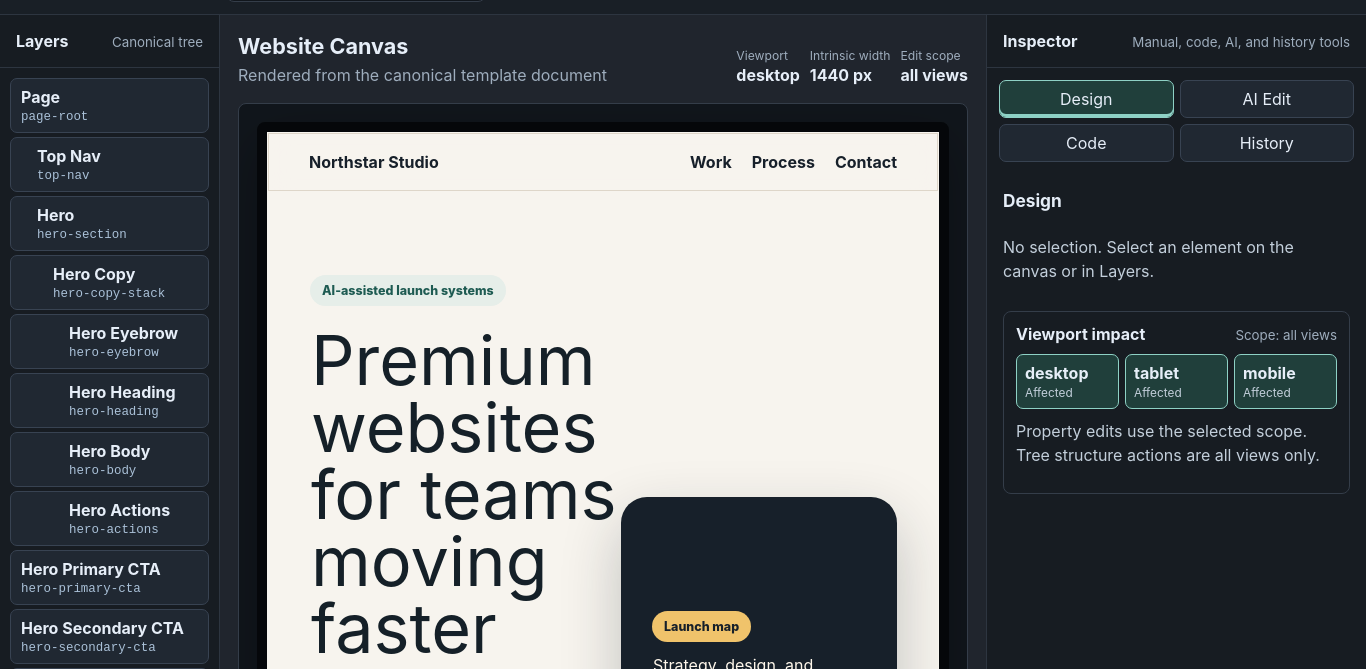
EditorShell › selects a canonical stable ID when a layer is clicked
What coordinates should you click on to do the following:
click the button with aria-label "Hero Heading, hero-heading"
I would click on:
 (110, 400)
Its box is x1=10 y1=373 x2=209 y2=428.
(page scrolled)
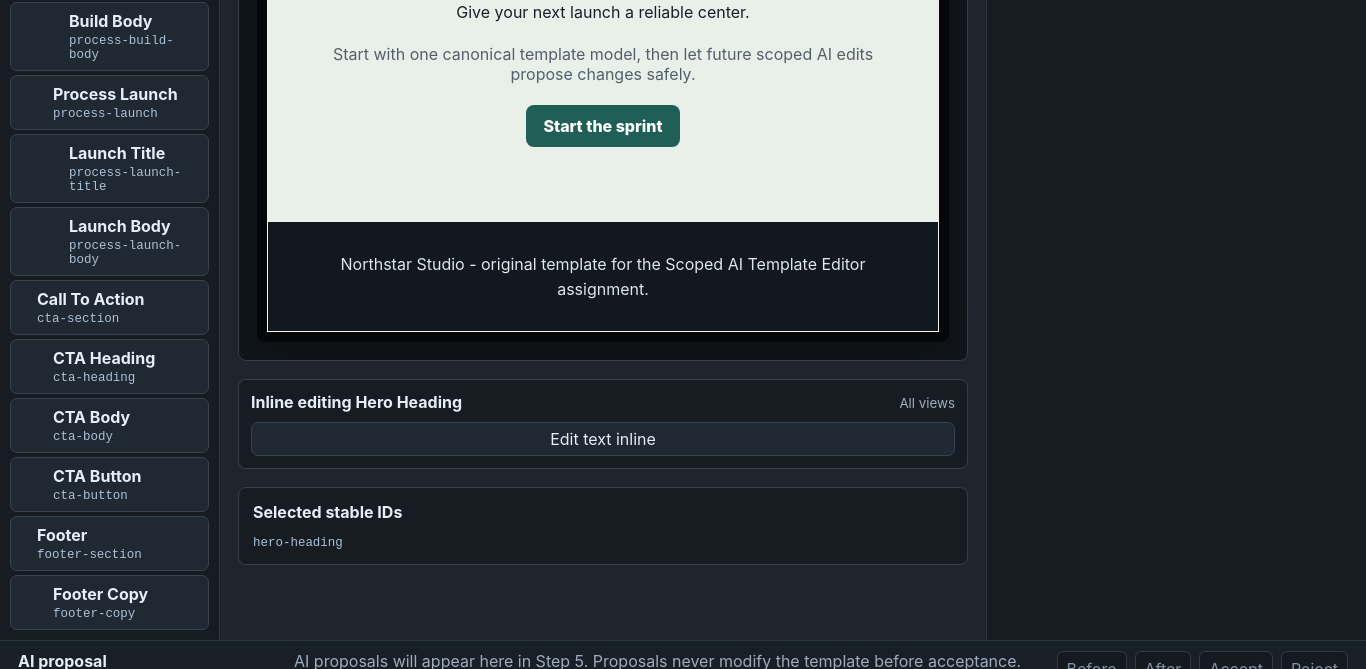
Now the text "hero-heading" is shown, box x1=253 y1=536 x2=343 y2=550
